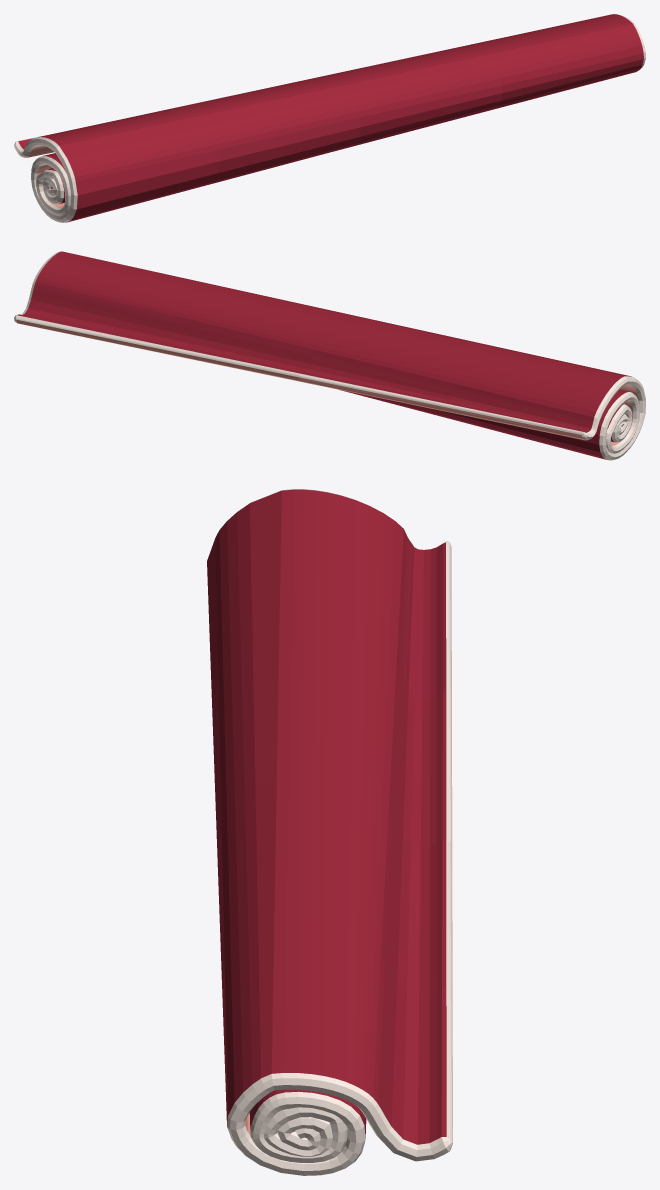
Rendered from tapis.fbx.
3 renders of one model, top to bottom at view 1: azimuth 30°, elevation 25°; view 2: azimuth 150°, elevation 25°; view 3: azimuth 270°, elevation 25°, orthographic. The views are drawn at different scales.
Parts seen in each view (by area): view 1: tapis; view 2: tapis; view 3: tapis.
Part boxes in pixels (left/top/right/bottom): tapis: left=14, top=14, right=645, bottom=222; tapis: left=14, top=251, right=645, bottom=460; tapis: left=207, top=489, right=452, bottom=1175.
Size of the model in its own units: 1753 by 225 by 325.
